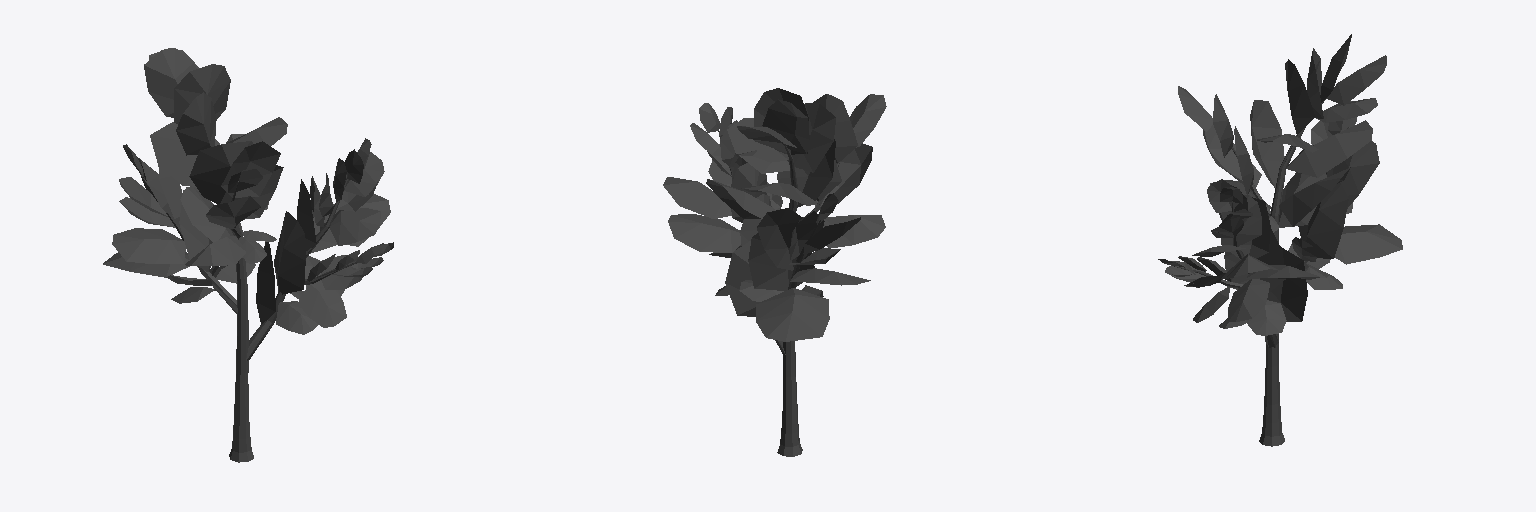
The model's file is laubbaum.obj.
3 views of the same model, side by side, from view 1: azimuth 30°, elevation 25°; view 2: azimuth 150°, elevation 25°; view 3: azimuth 270°, elevation 25° (orthographic).
Parts seen in each view (by area): view 1: Circle.012, Plane.228, Plane.234, Plane.050_Plane.000, Plane.051_Plane.000, Plane.217, Plane.230, Plane.224, Plane.052_Plane.000, Plane.194, Plane.192, Plane.210 (+19 smaller); view 2: Plane.227, Plane.229, Circle.012, Plane.209, Plane.230, Plane.216, Plane.050_Plane.000, Plane.203, Plane.195, Plane.217, Plane.236, Plane.214 (+11 smaller); view 3: Circle.012, Plane.224, Plane.203, Plane.227, Plane.217, Plane.195, Plane.209, Plane.213, Plane.232, Plane.204, Plane.230, Plane.212 (+14 smaller).
Part boxes in pixels (bbox=[...]): Circle.012: bbox=[229, 223, 253, 462]; Plane.228: bbox=[112, 228, 185, 263]; Plane.234: bbox=[274, 211, 305, 294]; Plane.050_Plane.000: bbox=[144, 48, 196, 117]; Plane.051_Plane.000: bbox=[174, 64, 230, 123]; Plane.217: bbox=[189, 141, 252, 203]; Plane.230: bbox=[176, 92, 216, 155]; Plane.224: bbox=[150, 122, 219, 186]; Plane.052_Plane.000: bbox=[221, 141, 280, 197]; Plane.194: bbox=[297, 282, 346, 327]; Plane.192: bbox=[330, 208, 380, 245]; Plane.210: bbox=[180, 187, 233, 242]; Plane.227: bbox=[756, 288, 829, 341]; Plane.229: bbox=[668, 214, 740, 252]; Circle.012: bbox=[777, 143, 802, 456]; Plane.209: bbox=[757, 208, 806, 270]; Plane.230: bbox=[775, 103, 835, 172]; Plane.216: bbox=[663, 177, 731, 218]; Plane.050_Plane.000: bbox=[762, 99, 809, 153]; Plane.203: bbox=[748, 233, 814, 290]; Plane.195: bbox=[725, 241, 759, 316]; Plane.217: bbox=[777, 139, 835, 207]; Plane.236: bbox=[814, 143, 872, 209]; Plane.214: bbox=[823, 215, 885, 247]; Circle.012: bbox=[1259, 99, 1325, 446]; Plane.224: bbox=[1287, 120, 1372, 177]; Plane.203: bbox=[1298, 172, 1348, 258]; Plane.227: bbox=[1335, 224, 1402, 264]; Plane.217: bbox=[1250, 100, 1284, 187]; Plane.195: bbox=[1267, 247, 1307, 321]; Plane.209: bbox=[1326, 141, 1379, 208]; Plane.213: bbox=[1279, 167, 1350, 226]; Plane.232: bbox=[1228, 279, 1269, 321]; Plane.204: bbox=[1326, 55, 1386, 105]; Plane.230: bbox=[1285, 59, 1314, 133]; Plane.212: bbox=[1246, 300, 1286, 335].
Bounding box in the file's own units: 5 × 7.96 × 4.58.